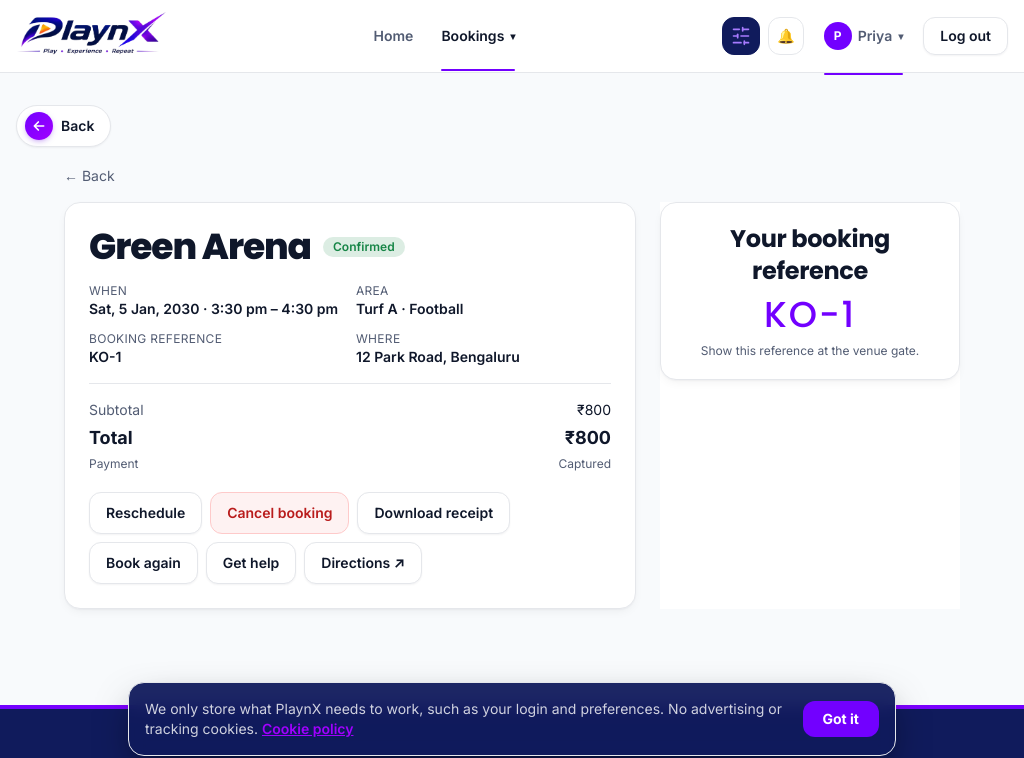
Test: rescheduling a booking › offers only free slots at the same price, says how many were hidden, and moves the booking when confirmed
Click the button "Reschedule" at (146, 513), box x1=89 y1=492 x2=202 y2=534
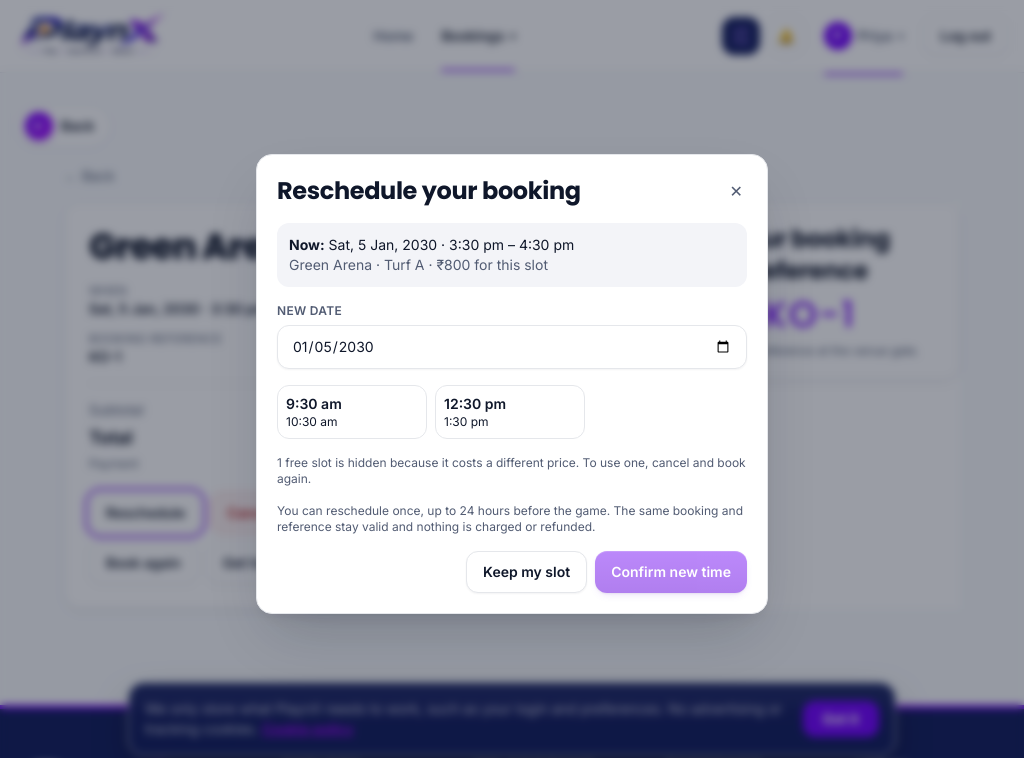
Check: the number of options is 2
Check: the text "1 free slot is hidden because it costs a different price" is shown, box x1=277 y1=455 x2=747 y2=487
Check: the button "Confirm new time" is disabled, box x1=595 y1=551 x2=747 y2=593
Click the option "12:30 pm 1:30 pm" at (510, 412), box x1=435 y1=385 x2=585 y2=439
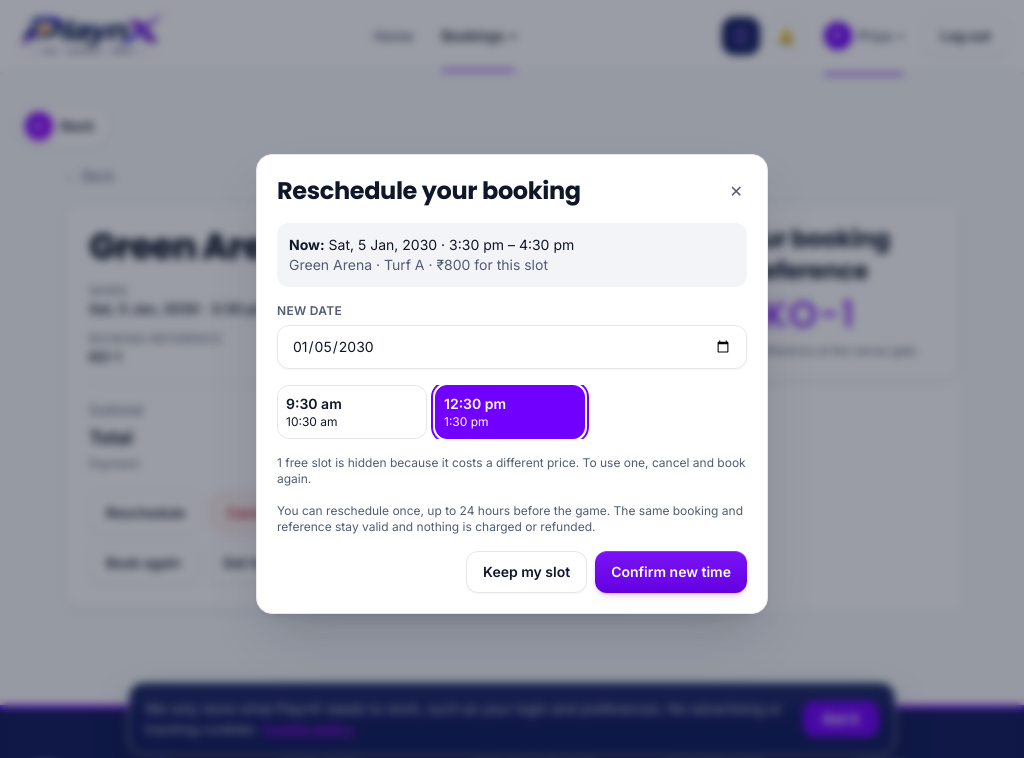
Click the button "Confirm new time" at (671, 572), box x1=595 y1=551 x2=747 y2=593
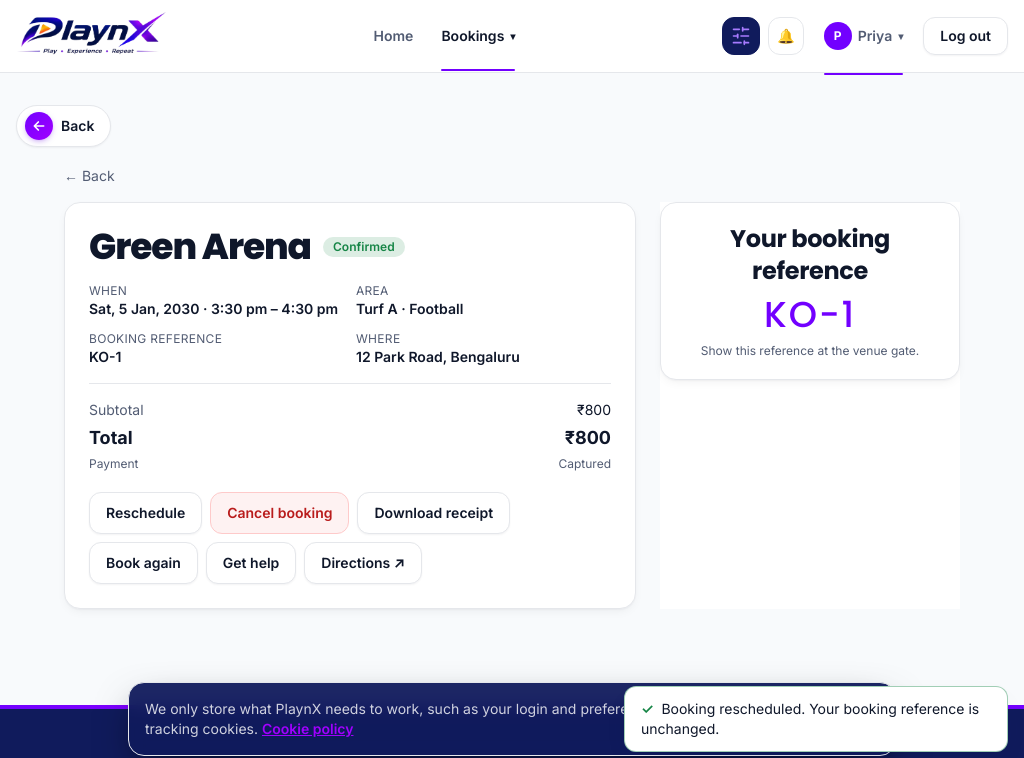
Check: the heading "Reschedule your booking" is gone
